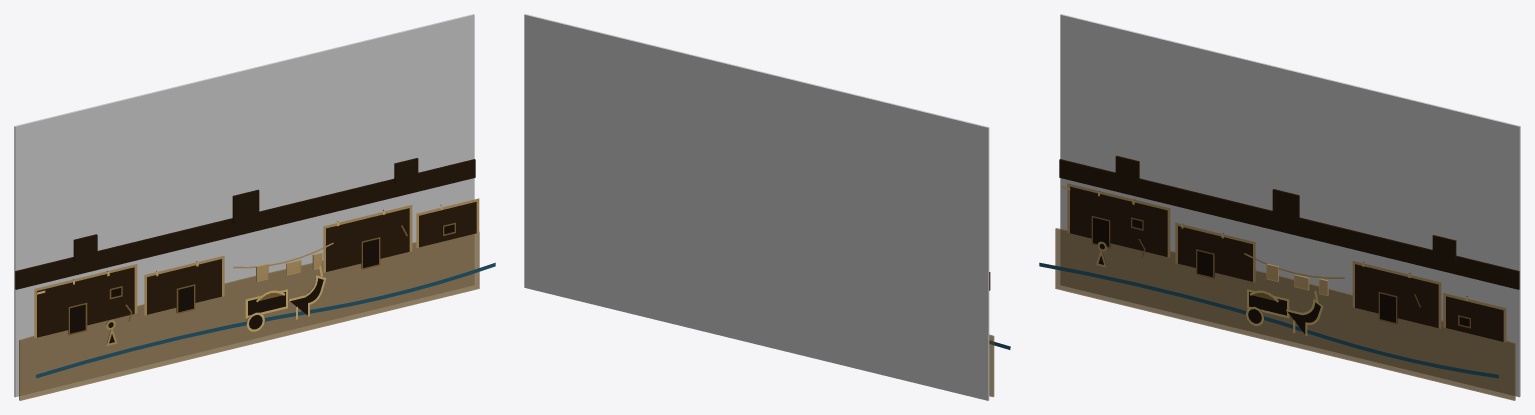
Rendered from loc-predmestye-almalyk.glb.
3 views of the same model, side by side, from view 1: azimuth 30°, elevation 25°; view 2: azimuth 150°, elevation 25°; view 3: azimuth 330°, elevation 25° (orthographic).
Visible parts, largest first — view 1: loc-predmestye-almalyk; view 2: loc-predmestye-almalyk; view 3: loc-predmestye-almalyk.
Boxes of the visible parts, x1,y1,x2,y2 form: loc-predmestye-almalyk: [14, 14, 495, 400]; loc-predmestye-almalyk: [524, 14, 1010, 400]; loc-predmestye-almalyk: [1039, 14, 1520, 400].
Size of the model in its own units: 5.34 by 3 by 0.581.
